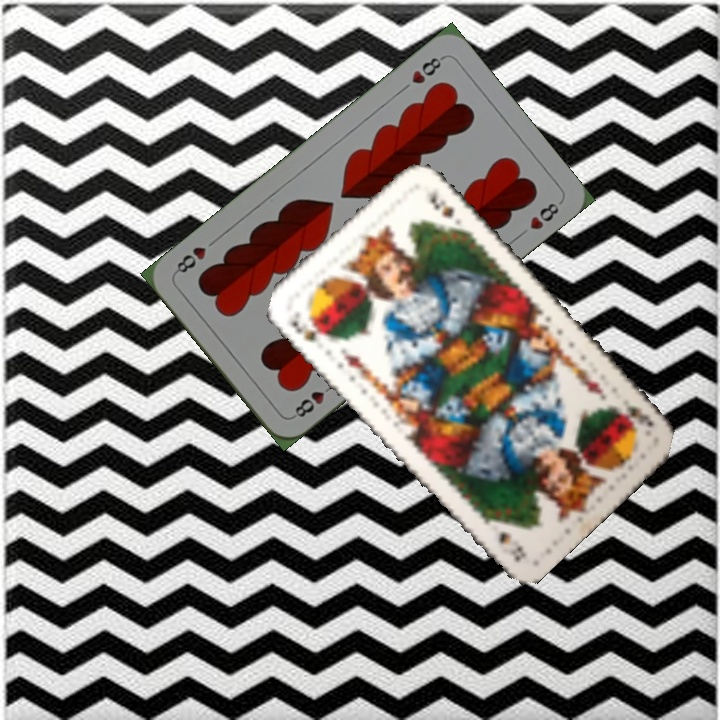H8: (288, 379, 338, 421), (407, 52, 447, 87)
SK: (286, 314, 332, 345), (617, 397, 657, 431)
